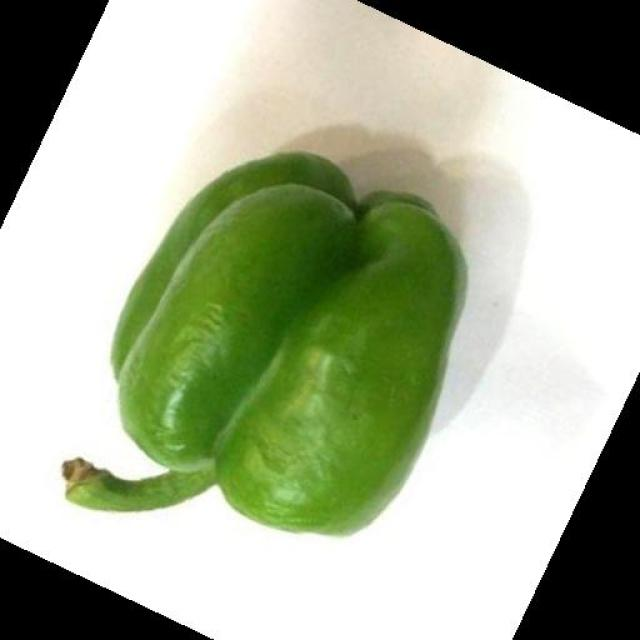Fresh_Capsicum: (133, 168, 440, 548)
